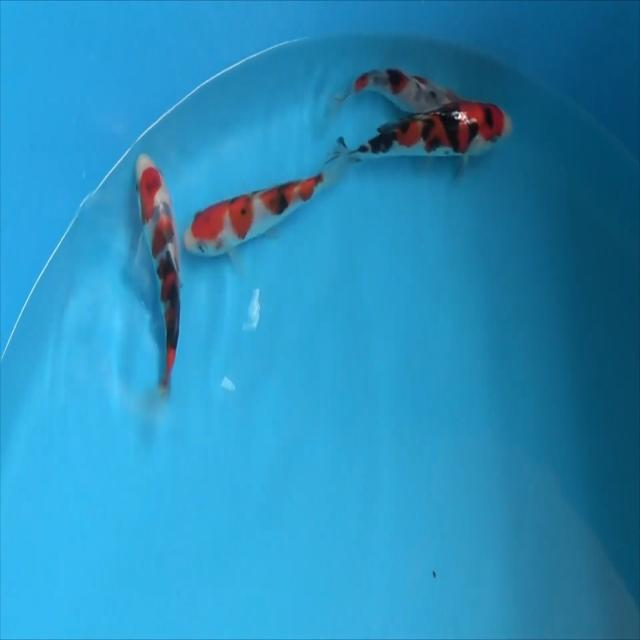Sanke: (182, 149, 348, 260), (329, 98, 512, 168), (133, 151, 182, 410), (334, 65, 458, 116)
